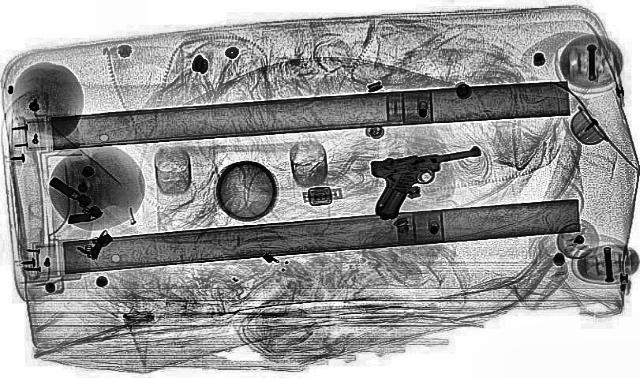Gun: (343, 138, 511, 220)
